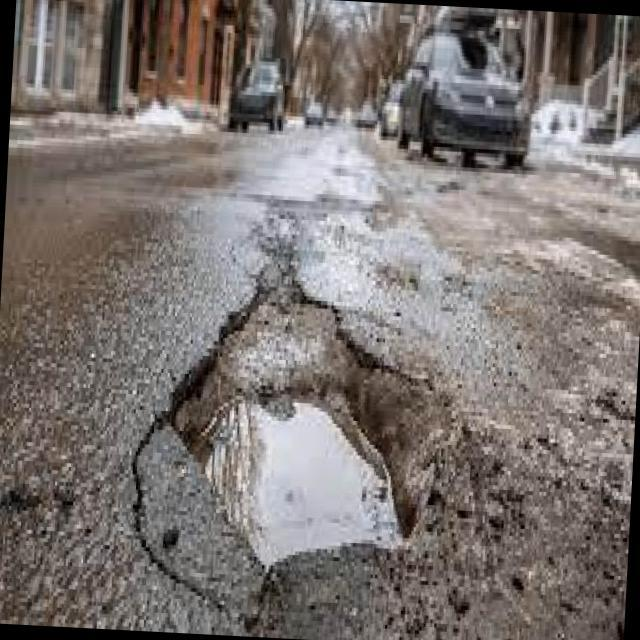pothole: (138, 220, 464, 604)
